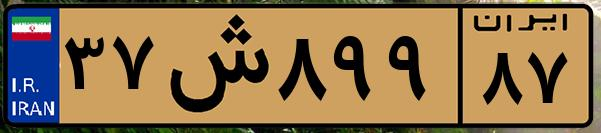3: (57, 26, 110, 100)
7: (525, 38, 570, 115), (110, 28, 158, 98)
8: (270, 28, 330, 110), (475, 38, 525, 113)
9: (385, 28, 445, 110), (330, 28, 385, 110)
ش: (158, 12, 270, 120)
